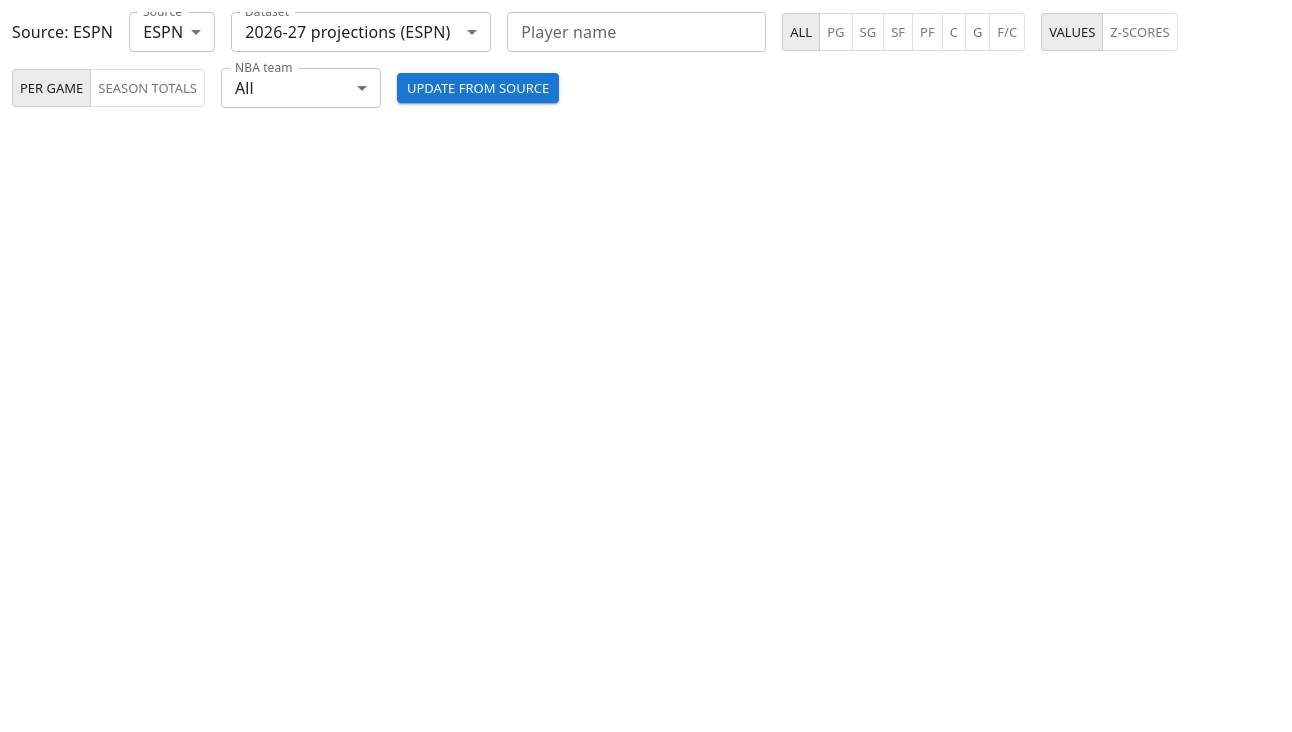
Test: renders player search, ESPN position chips, and NBA team options
The image size is (1292, 732).
Check: the field labelled "Player name" is shown, box [507,12,766,52]
Check: the button "All" is shown, box [782,13,820,51]
Press the mouse on the dropdown named "nba team": {"x": 244, "y": 88} [235,76,254,98]
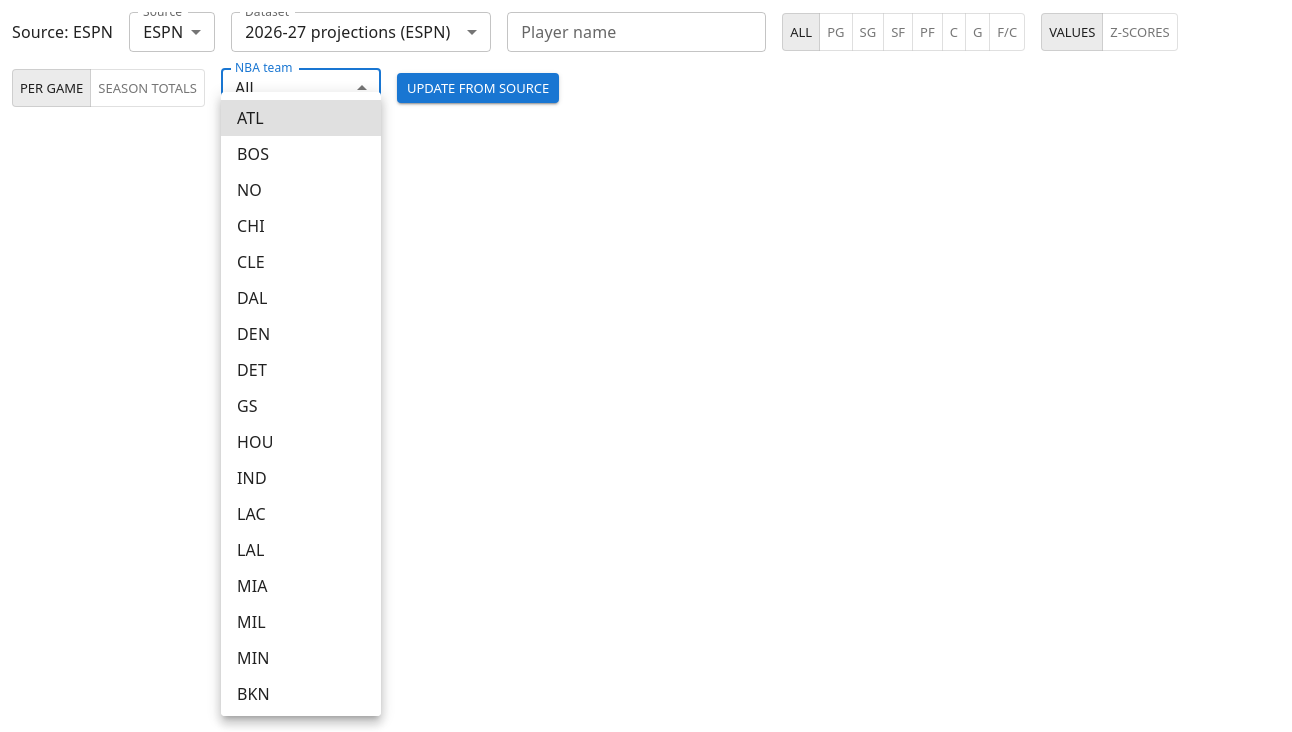
Check: the option "DEN" is shown, box [237,323,270,345]
Check: the option "GS" is shown, box [237,395,258,417]
